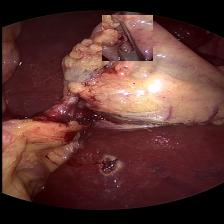Grasper: (101, 16, 151, 61)
